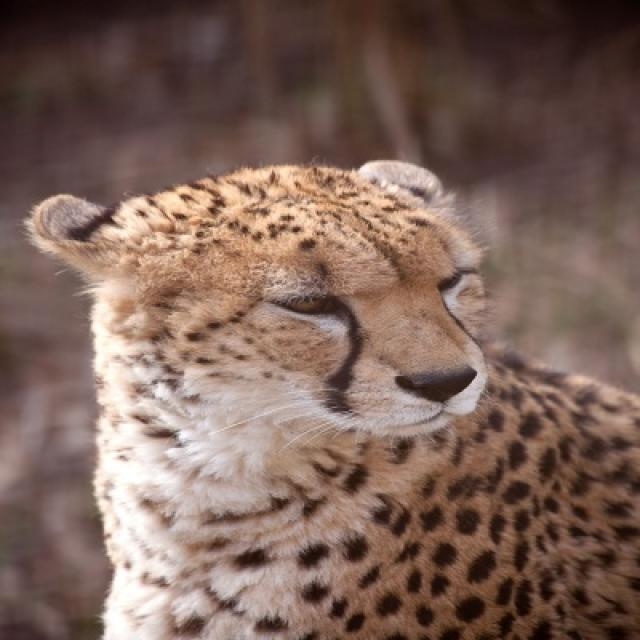Cheetah: (21, 155, 638, 638)
